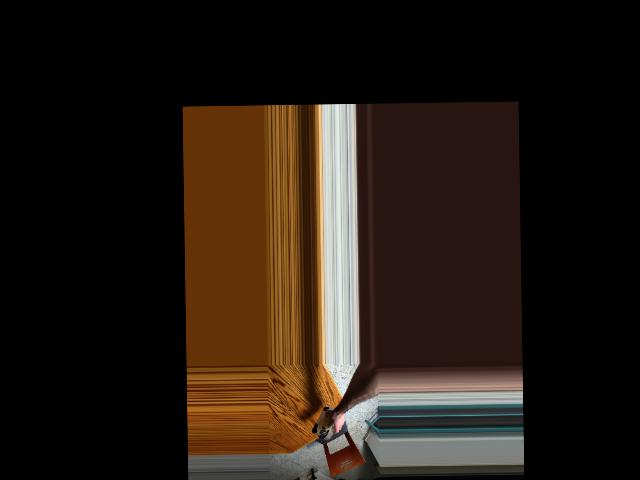cheese: (311, 403, 344, 440)
